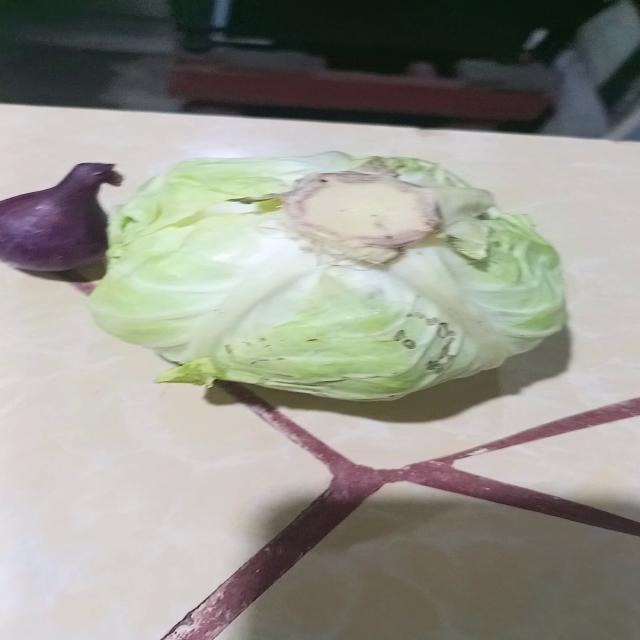cabbage: (88, 152, 567, 402)
onion: (0, 162, 125, 289)
